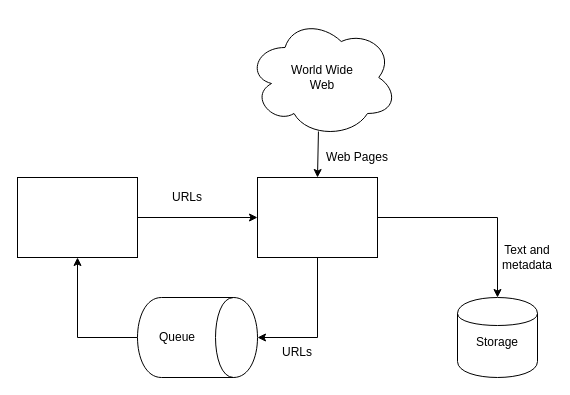
Image size: 570x395. Some labels were removed from this diagram. Each missing label, with the centre of its shape:
Processor: the point at 317,217
Scheduler: the point at 77,217
